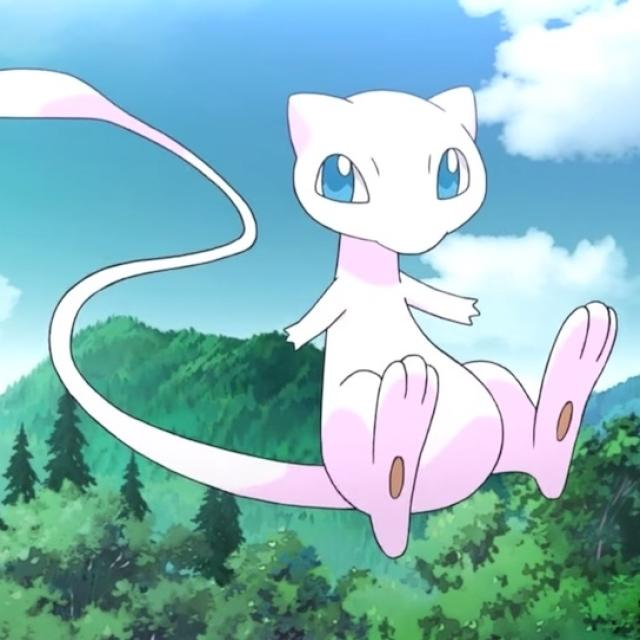Mew: (266, 89, 504, 502)
